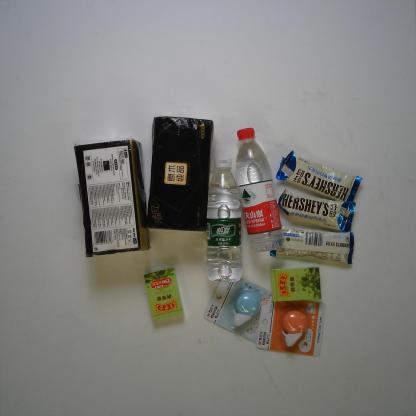Candy: (269, 264, 323, 303), (144, 265, 182, 318)
Chocolate: (274, 150, 364, 205), (277, 186, 358, 232), (273, 224, 355, 266)
Drink: (232, 124, 284, 254), (203, 154, 245, 284)
Stationery: (203, 274, 282, 342), (255, 292, 326, 357)
Tissue: (72, 138, 151, 260), (146, 114, 216, 234)
